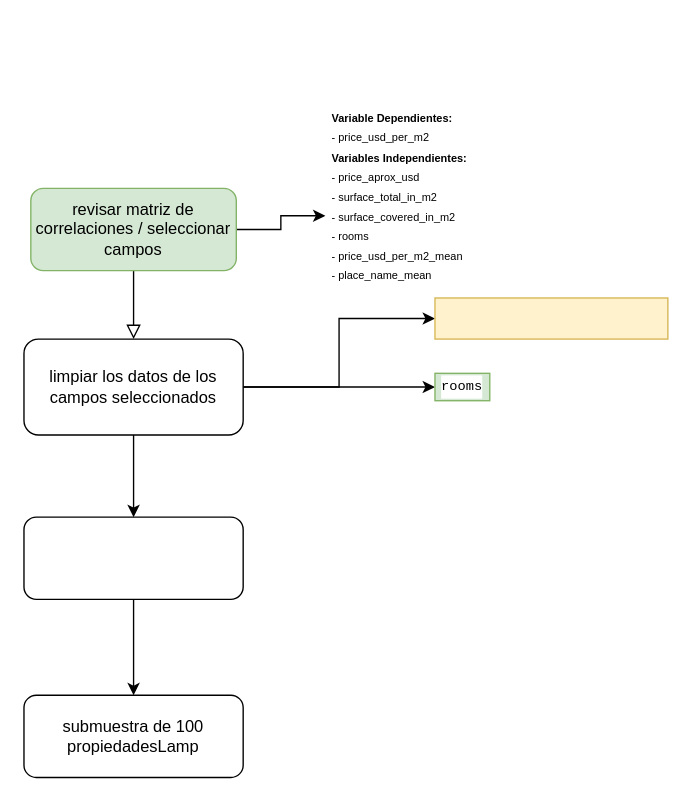
The diagram is 692 pixels wide and 801 high, and some of its shapes have lost their labels. Here are the shapes that lost their labels. From the top down, the centre of each, then its label:
[551,318]: limpiar surface_total_in_m2
[133,557]: entrenar el modelo usando regresión Ridge y una LASSO
